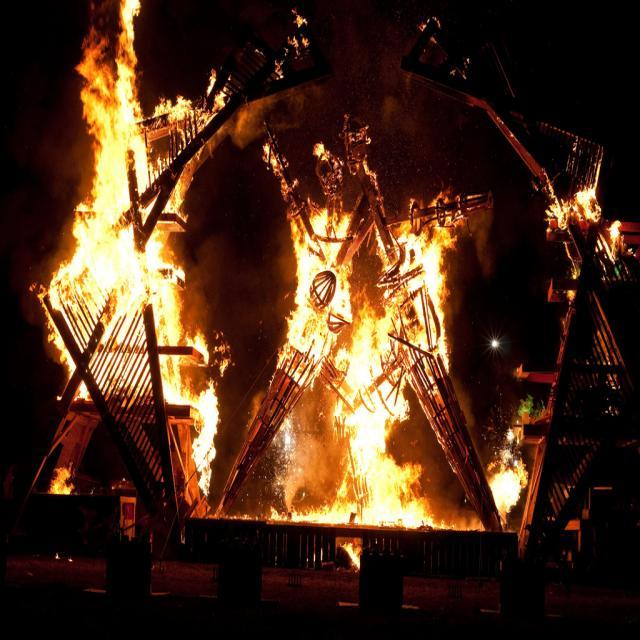Fire: (299, 221, 422, 408), (80, 58, 151, 320), (348, 414, 408, 519)
